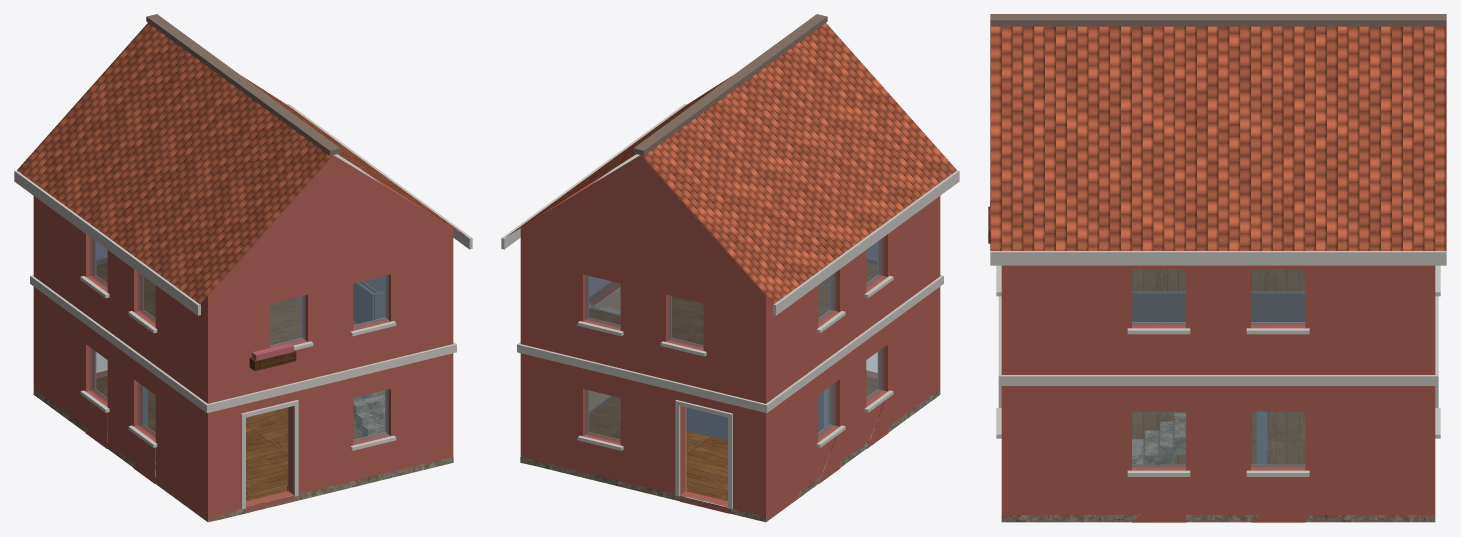
The model's file is cove-house-red.zfix-v7.lod0.glb.
3 renders of one model, left to right at view 1: azimuth 30°, elevation 25°; view 2: azimuth 150°, elevation 25°; view 3: azimuth 270°, elevation 25°, orthographic. The views are drawn at different scales.
Visible parts, largest first — view 1: cove-house-red; view 2: cove-house-red; view 3: cove-house-red.
Boxes of the visible parts, box(x1,y1,x2,y2) form: cove-house-red: box(14, 14, 472, 522); cove-house-red: box(501, 14, 959, 522); cove-house-red: box(988, 14, 1446, 522).
Size of the model in its own units: 7.28 by 8.78 by 8.46.
Materials: 5 (3 with a texture image).
